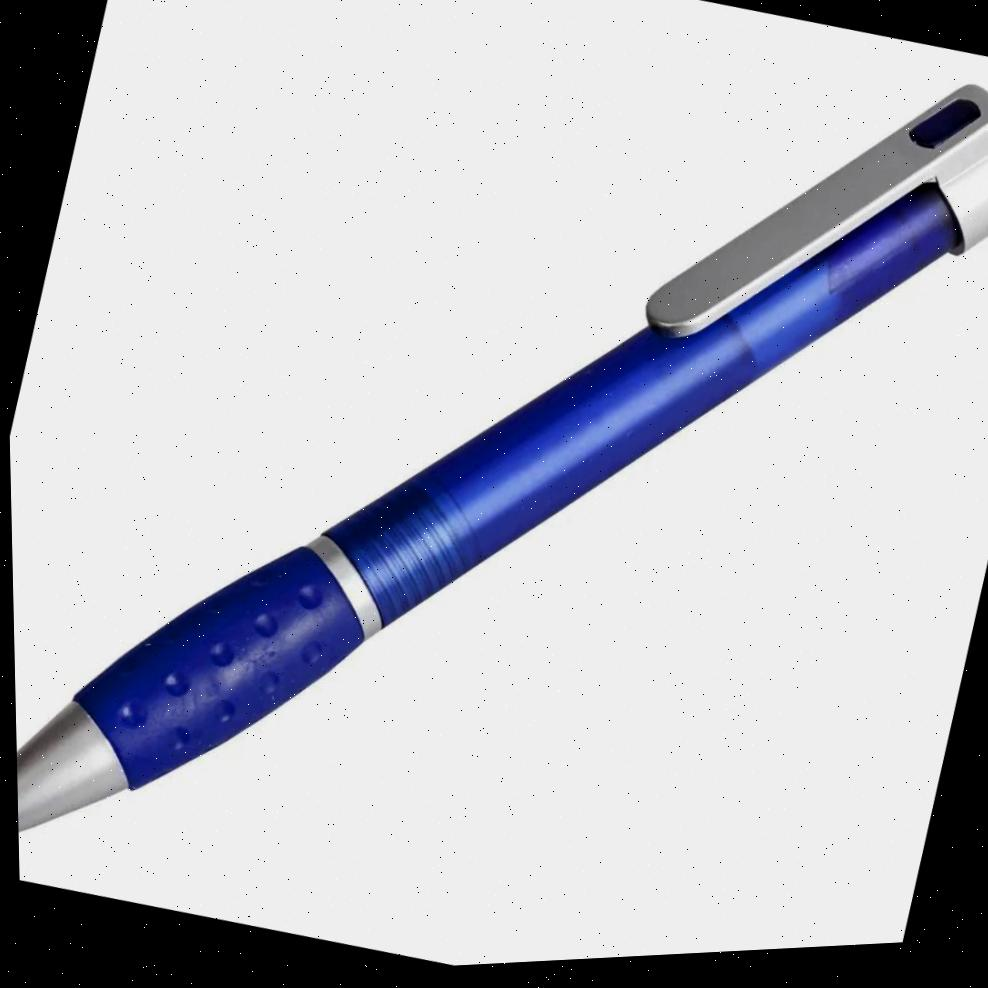pen-pencil: (17, 84, 988, 831)
